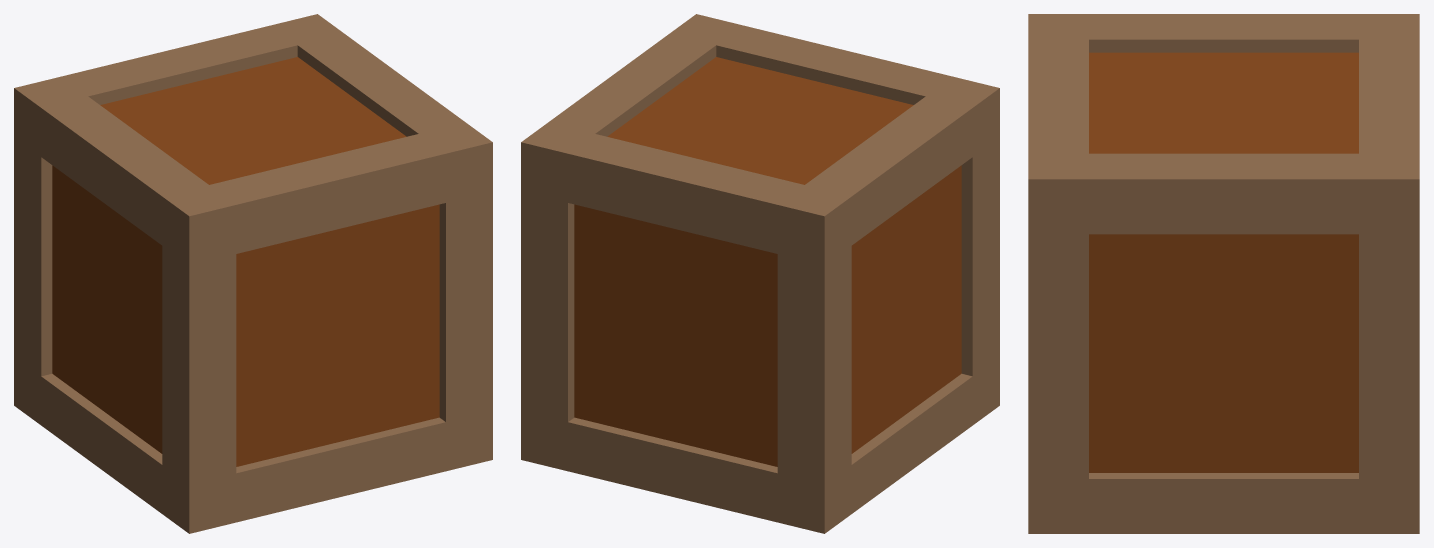
File: Crate.fbx
3 views of the same model, side by side, from view 1: azimuth 30°, elevation 25°; view 2: azimuth 150°, elevation 25°; view 3: azimuth 270°, elevation 25° (orthographic). The views are drawn at different scales.
Parts seen in each view (by area): view 1: Crate; view 2: Crate; view 3: Crate.
Part boxes in pixels (left/top/right/bottom): Crate: left=14, top=14, right=492, bottom=533; Crate: left=521, top=14, right=999, bottom=533; Crate: left=1028, top=14, right=1419, bottom=533.
Bounding box in the file's own units: 0.8914 × 0.8914 × 0.8914.
